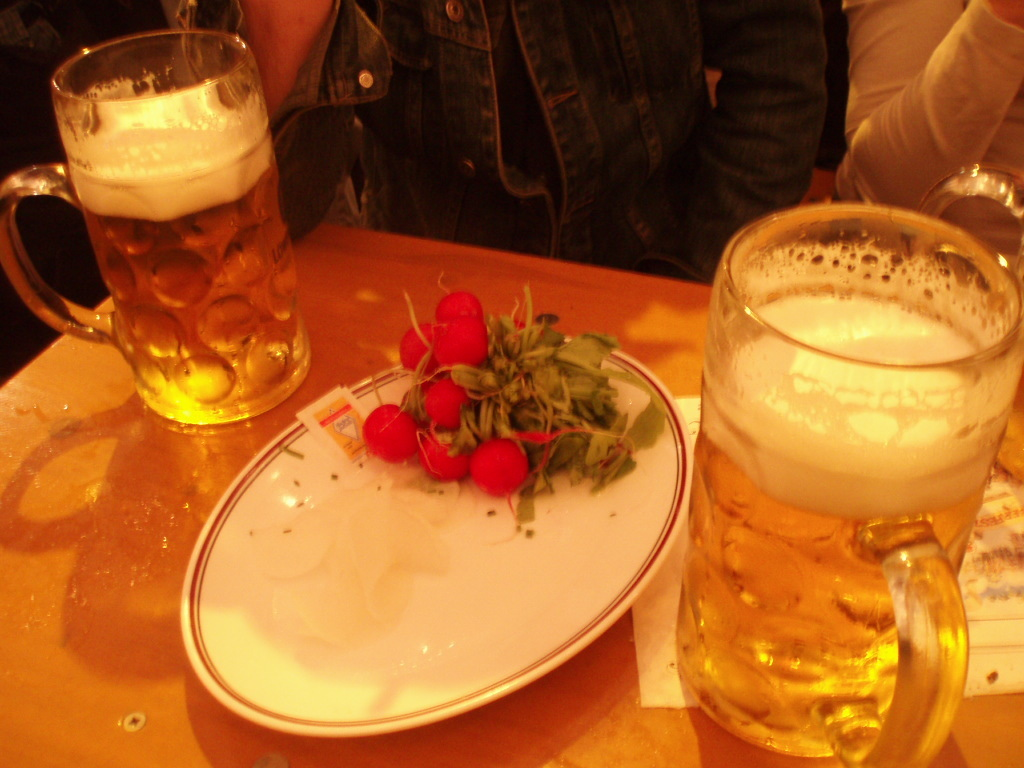Beer: (670, 285, 1006, 763), (71, 103, 314, 429)
